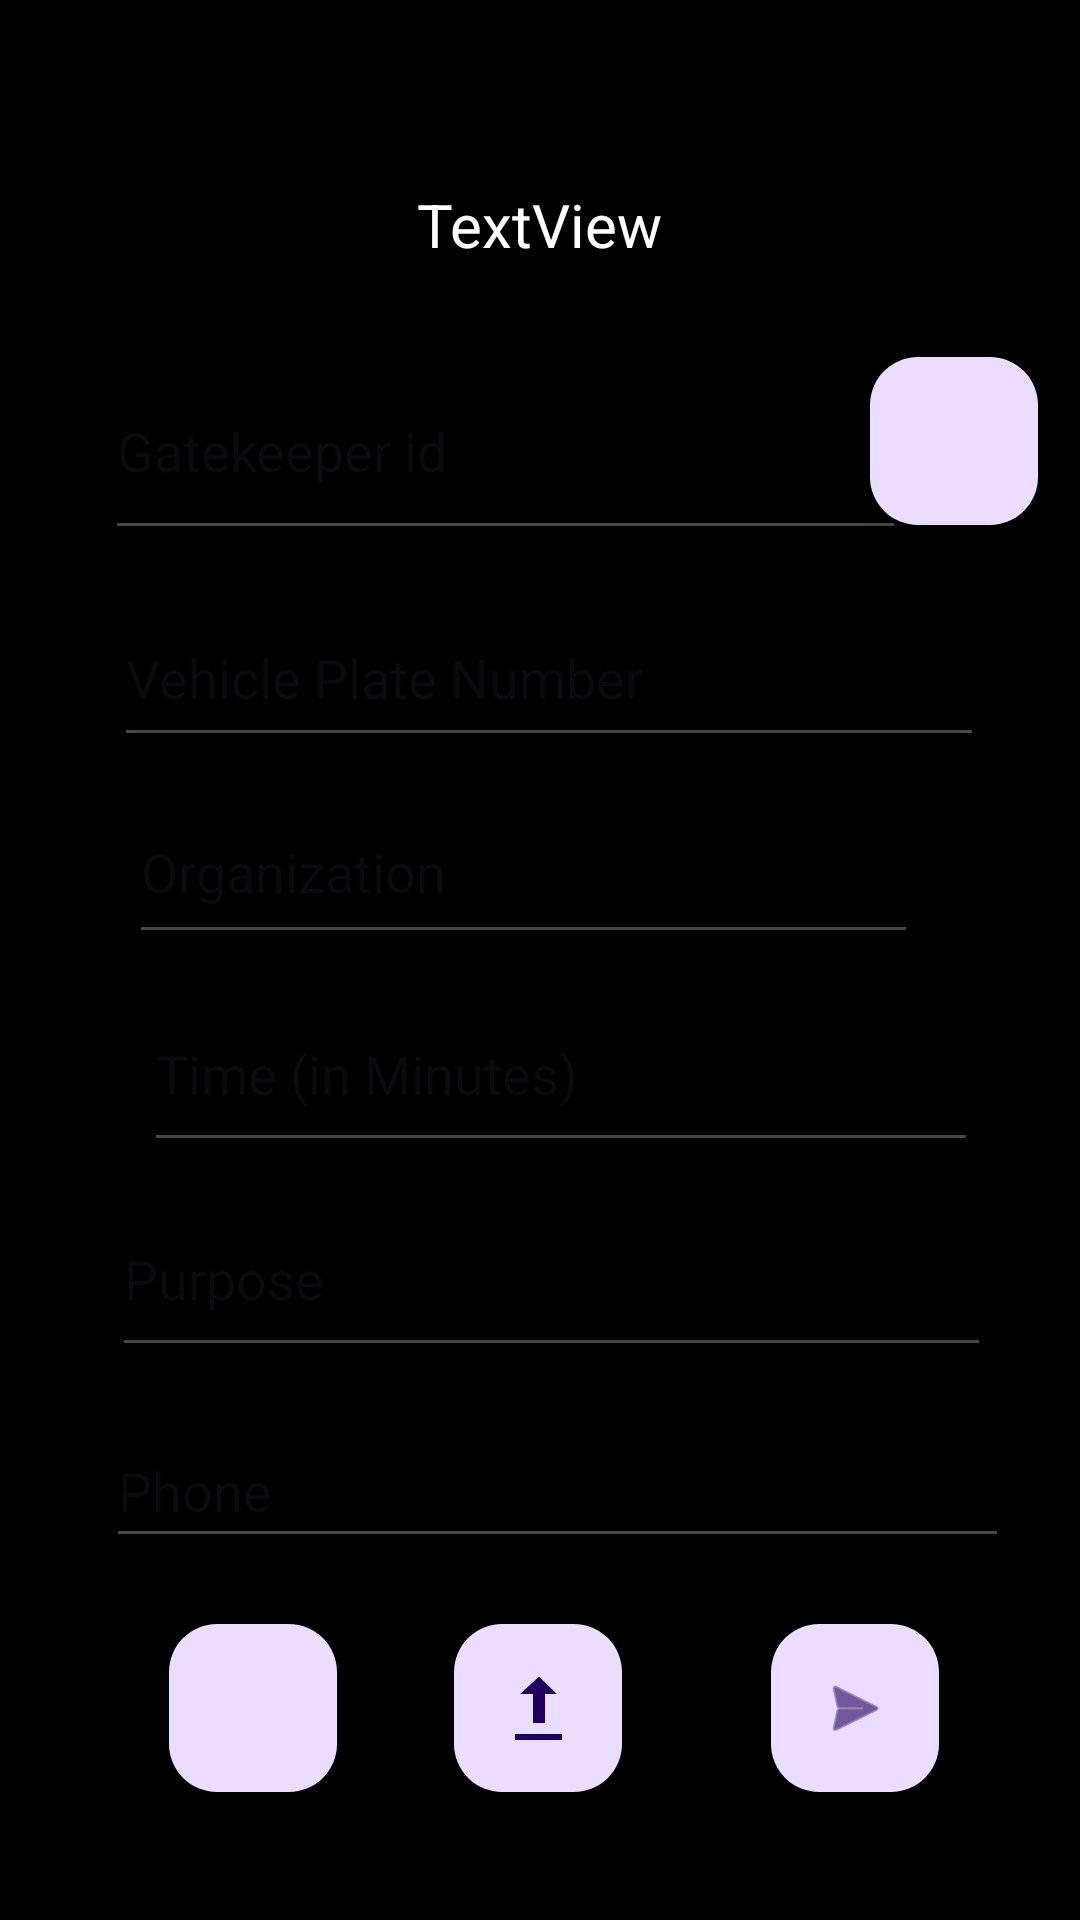

Icons on this 1080×1920 Android screen, each with its box as (x1, y1, x2, y2):
send: (771, 1624, 939, 1792)
